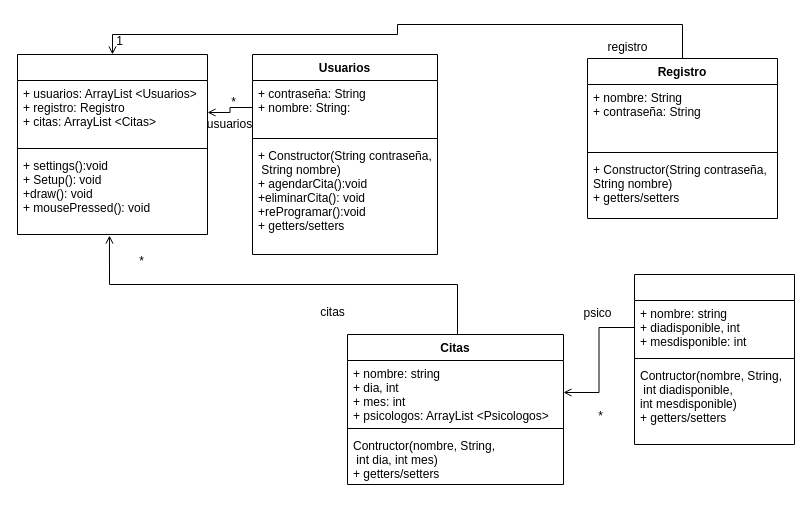
This 812x505 diagram has some shape labels left out. The box of each missing label's shape, as (x1, y1, x2, y2) in pixels:
Main: (16, 54, 208, 234)
Psicologos: (634, 274, 794, 444)
